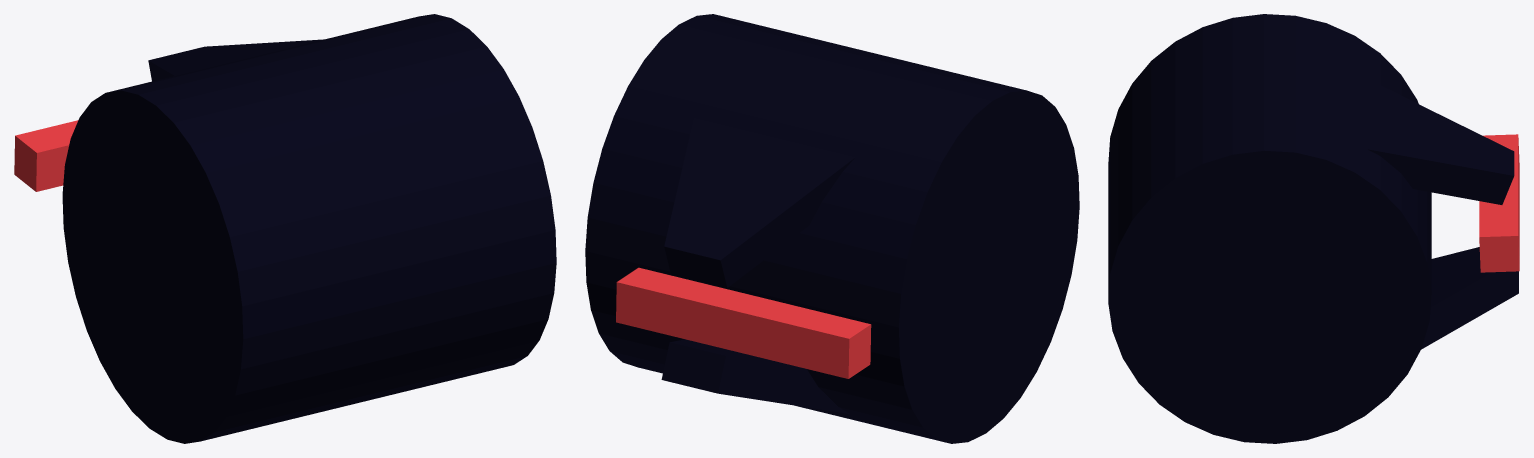
File: Arma Pistola 1.fbx
3 views of the same model, side by side, from view 1: azimuth 30°, elevation 25°; view 2: azimuth 150°, elevation 25°; view 3: azimuth 270°, elevation 25° (orthographic). The views are drawn at different scales.
Parts seen in each view (by area): view 1: Arma Pistola; view 2: Arma Pistola; view 3: Arma Pistola.
Part boxes in pixels (x1,y1,x2,y2): Arma Pistola: (14,14,556,443); Arma Pistola: (585,14,1079,443); Arma Pistola: (1108,14,1519,443).
Bounding box in the file's own units: 18.75 × 18.74 × 23.84.
